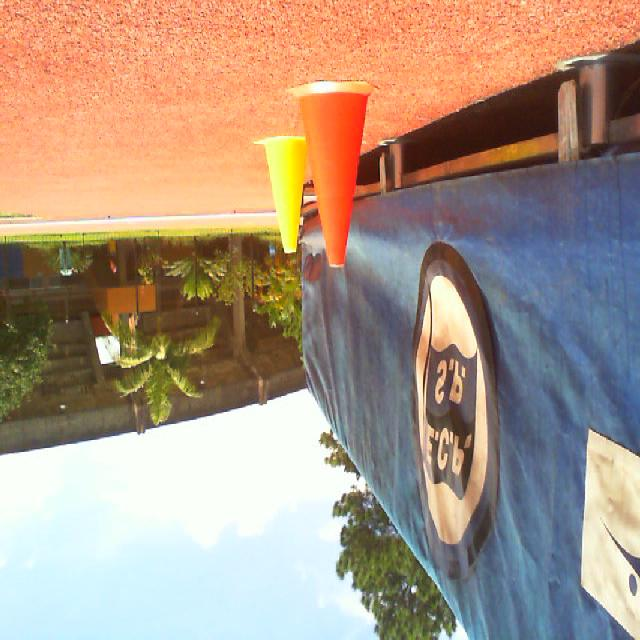cone: (284, 81, 379, 268), (253, 133, 304, 255)
